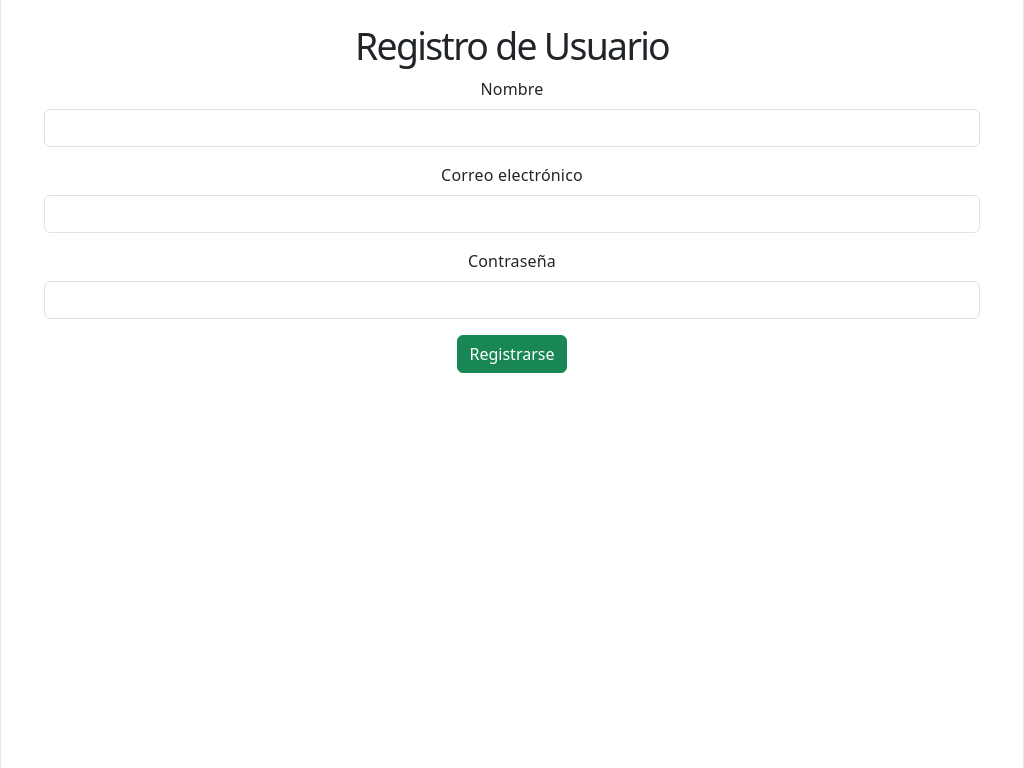
Test case: Componente Registro › muestra error si el correo no es valido
This screenshot has width=1024, height=768.
Type "Miguel" into the field labelled "Nombre".
click(512, 128); type("Miguel")  # box [44, 109, 980, 147]
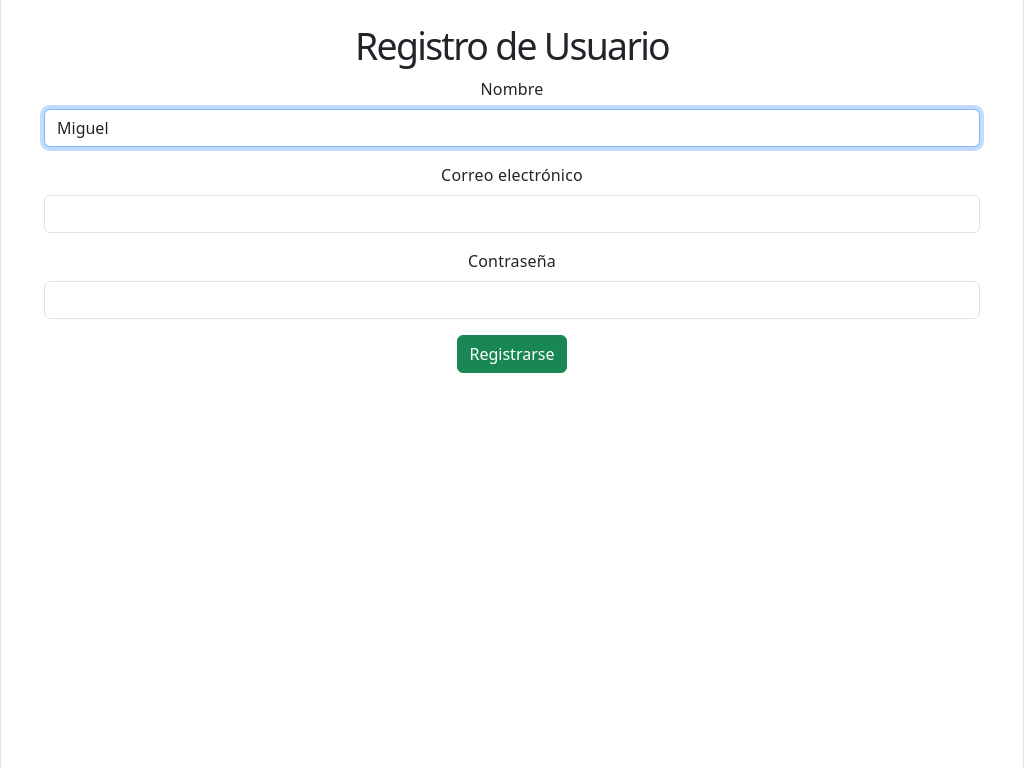
Type "correoincorrecto" into the field labelled "Correo electrónico".
click(512, 214); type("correoincorrecto")  # box [44, 195, 980, 233]
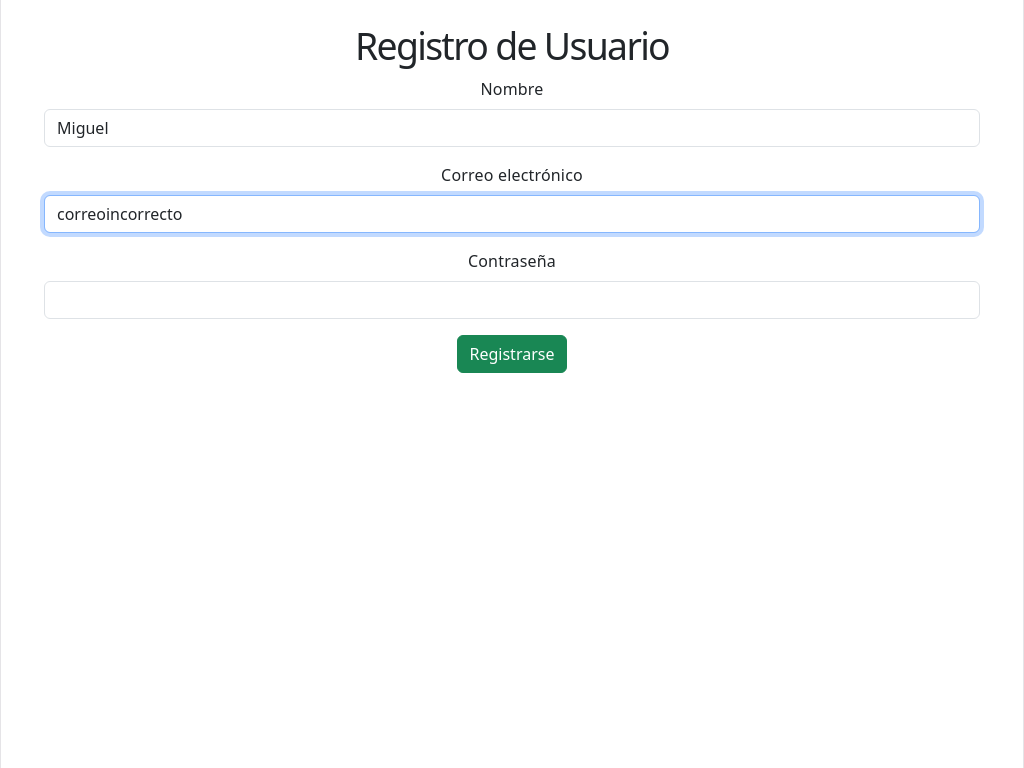
Click the button "Registrarse".
click(512, 354)  # box [456, 335, 568, 373]
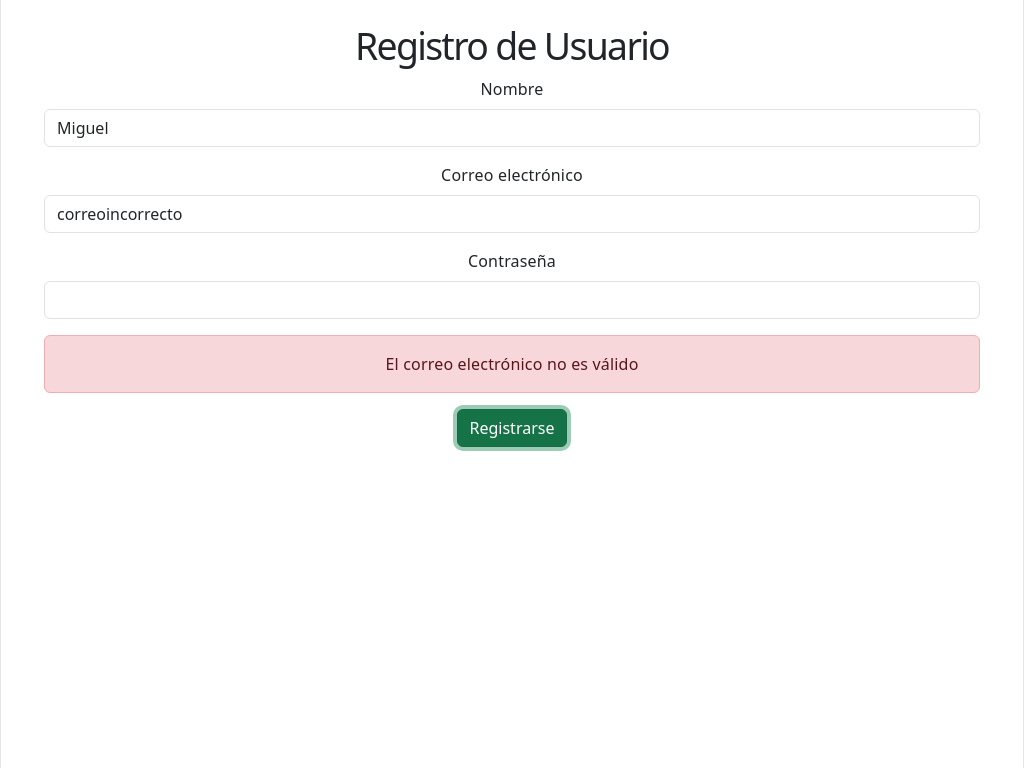
Check: the text "El correo electrónico no es válido" is shown, box [44, 335, 980, 393]
